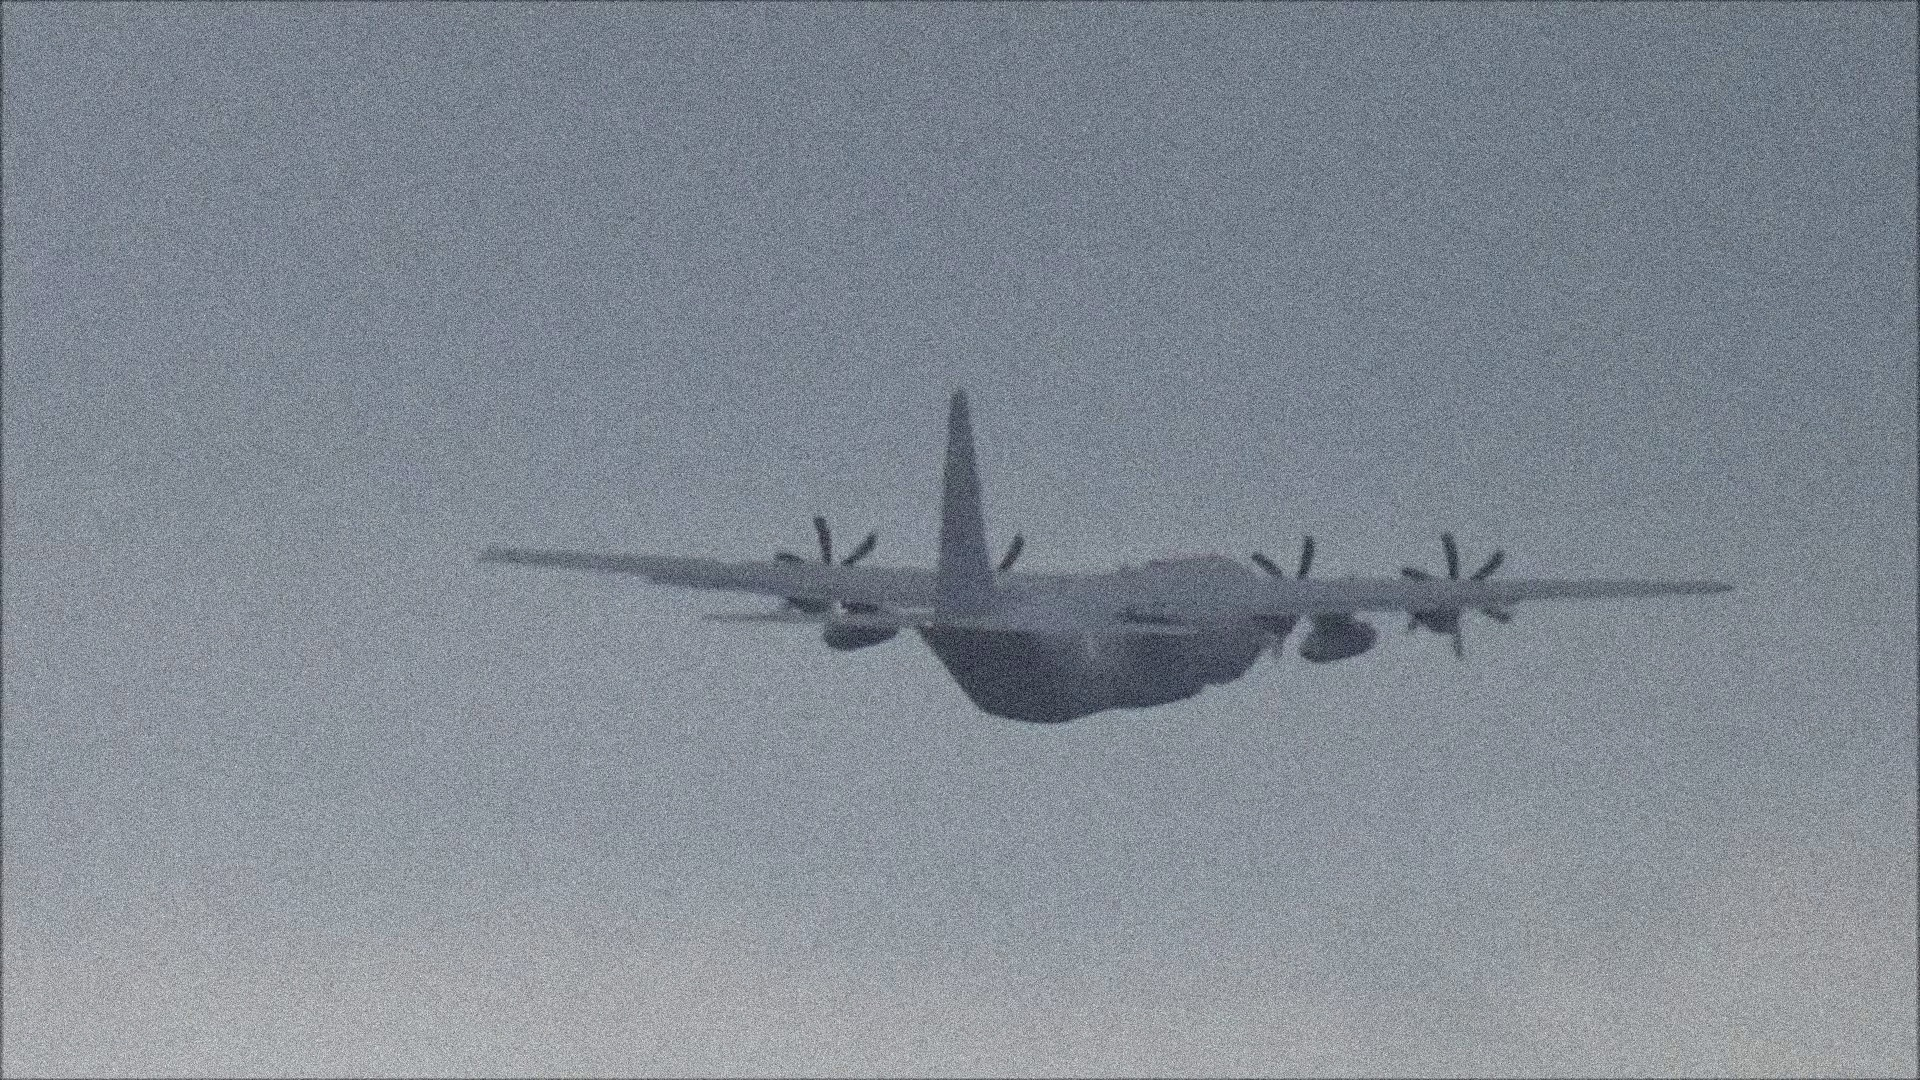Airplane: (476, 390, 1739, 723)
